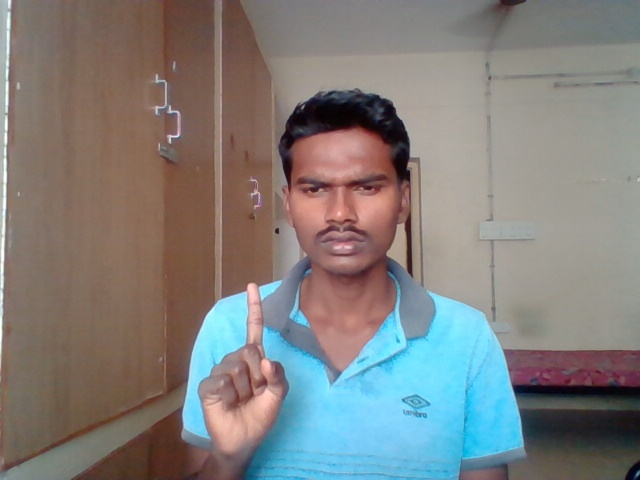No: (198, 278, 291, 456)
